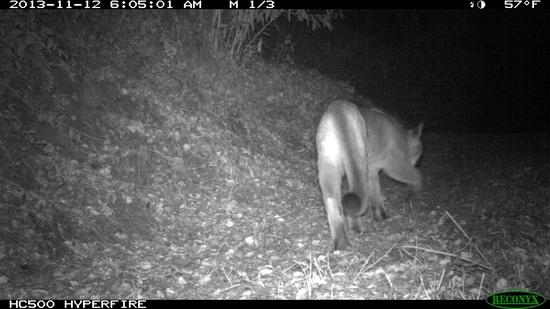mountain lion: (308, 98, 447, 255)
